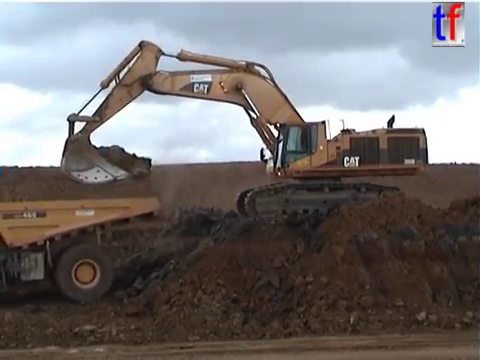excavator: (57, 37, 431, 226)
truck: (1, 194, 162, 304)
